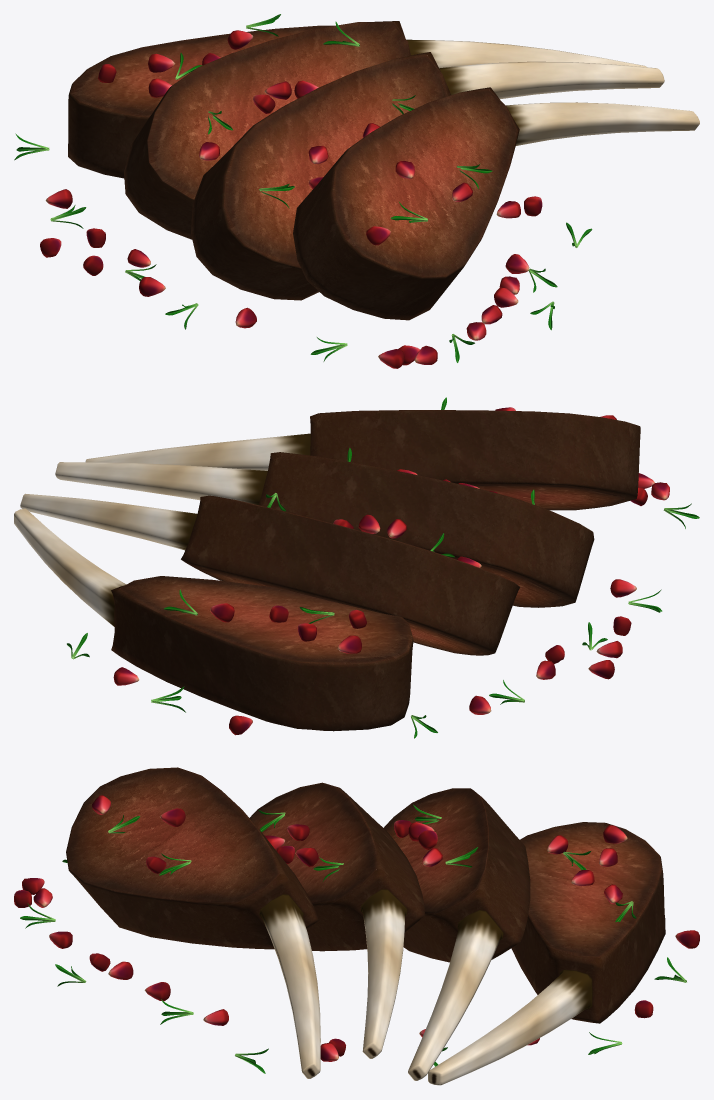
File: pomegranateLamb.fbx
3 renders of one model, top to bottom at view 1: azimuth 30°, elevation 25°; view 2: azimuth 150°, elevation 25°; view 3: azimuth 270°, elevation 25°, orthographic. The views are drawn at different scales.
Parts seen in each view (by area): view 1: Lamb1; view 2: Lamb1; view 3: Lamb1.
Part boxes in pixels (x1,y1,x2,y2): Lamb1: (14, 14, 699, 368); Lamb1: (14, 397, 699, 738); Lamb1: (14, 767, 699, 1085).
Bounding box in the file's own units: 0.2977 × 0.0874 × 0.304.
Materials: 3 (3 with a texture image).
